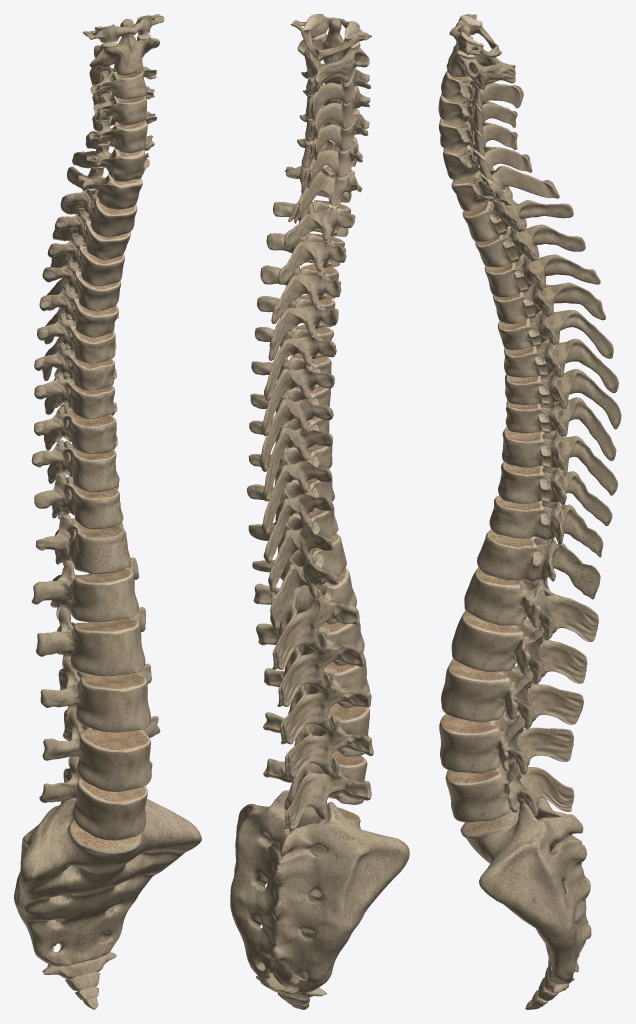
File: Columna_Vertebral.glb
The picture shows the model from 3 angles, left to right: view 1: azimuth 30°, elevation 25°; view 2: azimuth 150°, elevation 25°; view 3: azimuth 270°, elevation 25°; orthographic projection. The views are drawn at different scales.
Visible parts, largest first — view 1: Object_26, Object_16, Object_17, Object_18, Object_19, Object_20, Object_13, Object_14, Object_3, Object_12, Object_15, Object_11 (+23 smaller); view 2: Object_26, Object_19, Object_20, Object_16, Object_17, Object_18, Object_13, Object_14, Object_12, Object_3, Object_15, Object_10 (+15 smaller); view 3: Object_26, Object_17, Object_16, Object_18, Object_19, Object_20, Object_13, Object_14, Object_12, Object_3, Object_10, Object_9 (+20 smaller).
Boxes of the visible parts, x1,y1,x2,y2 form: Object_26: (14,798,201,1009); Object_16: (36,607,145,674); Object_17: (40,657,151,730); Object_18: (42,710,160,790); Object_19: (31,557,139,621); Object_20: (39,757,152,839); Object_13: (35,515,131,572); Object_14: (34,472,123,526); Object_3: (31,435,119,490); Object_12: (34,402,116,452); Object_15: (89,19,159,75); Object_11: (34,368,115,417); Object_26: (230,790,409,1009); Object_19: (253,571,359,669); Object_20: (263,758,371,829); Object_16: (256,621,364,706); Object_17: (264,655,371,744); Object_18: (263,709,373,778); Object_13: (252,533,346,630); Object_14: (248,504,338,591); Object_12: (248,445,332,535); Object_3: (246,476,334,563); Object_15: (297,18,369,91); Object_10: (250,388,333,471); Object_26: (460,797,591,1009); Object_17: (441,665,583,728); Object_16: (451,614,587,683); Object_18: (439,710,573,774); Object_19: (464,571,598,641); Object_20: (445,756,574,821); Object_13: (477,529,600,599); Object_14: (489,496,603,557); Object_12: (502,428,617,495); Object_3: (498,461,612,526); Object_10: (505,369,621,429); Object_9: (504,338,618,393).
Bounding box in the file's own units: 13.18 × 72.73 × 12.24.
Materials: 4 (4 with a texture image).
